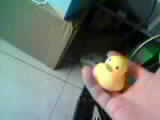duck: (91, 43, 132, 101)
